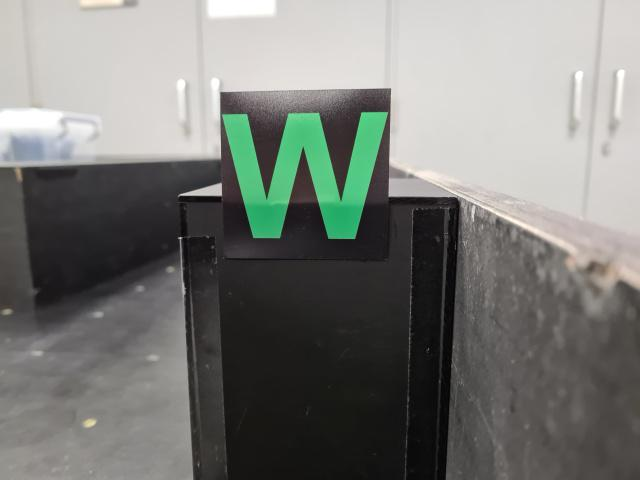alphabet_w: (218, 89, 393, 261)
